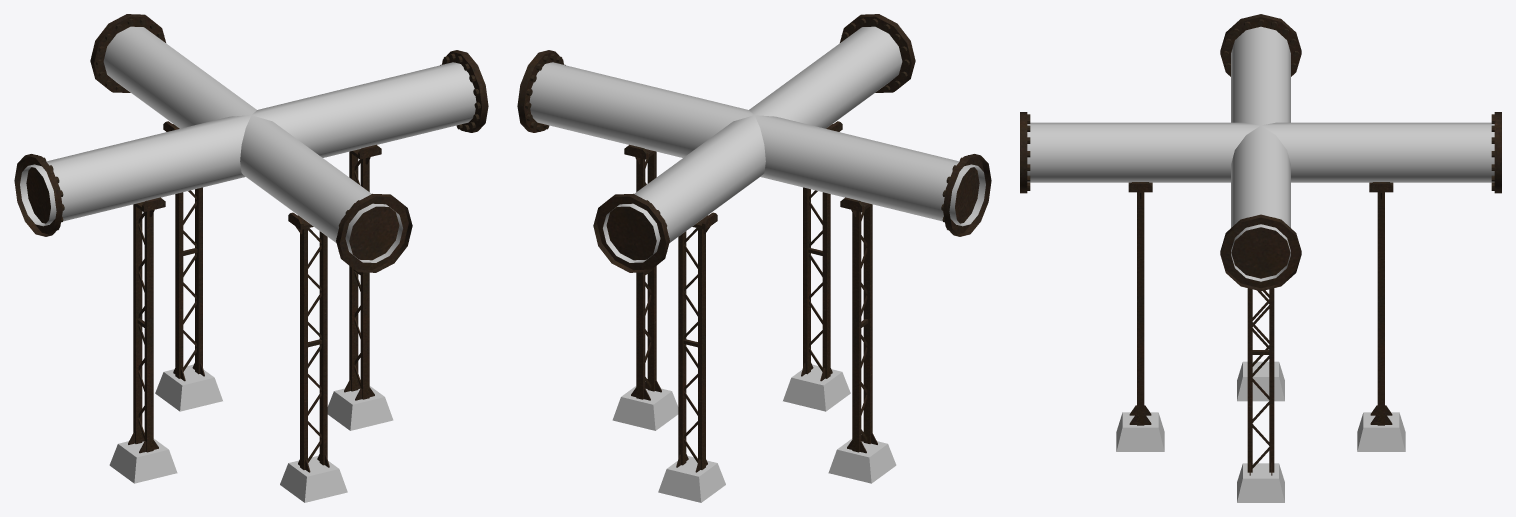
The model's file is pipe_cx_2.fbx.
The picture shows the model from 3 angles, left to right: view 1: azimuth 30°, elevation 25°; view 2: azimuth 150°, elevation 25°; view 3: azimuth 270°, elevation 25°; orthographic projection. The views are drawn at different scales.
Visible parts, largest first — view 1: pipe_cx_2; view 2: pipe_cx_2; view 3: pipe_cx_2.
Boxes of the visible parts, x1=… form: pipe_cx_2: x1=14, y1=14, x2=488, y2=502; pipe_cx_2: x1=517, y1=14, x2=991, y2=502; pipe_cx_2: x1=1020, y1=14, x2=1501, y2=502.
Size of the model in its own units: 4 by 4 by 2.99.
